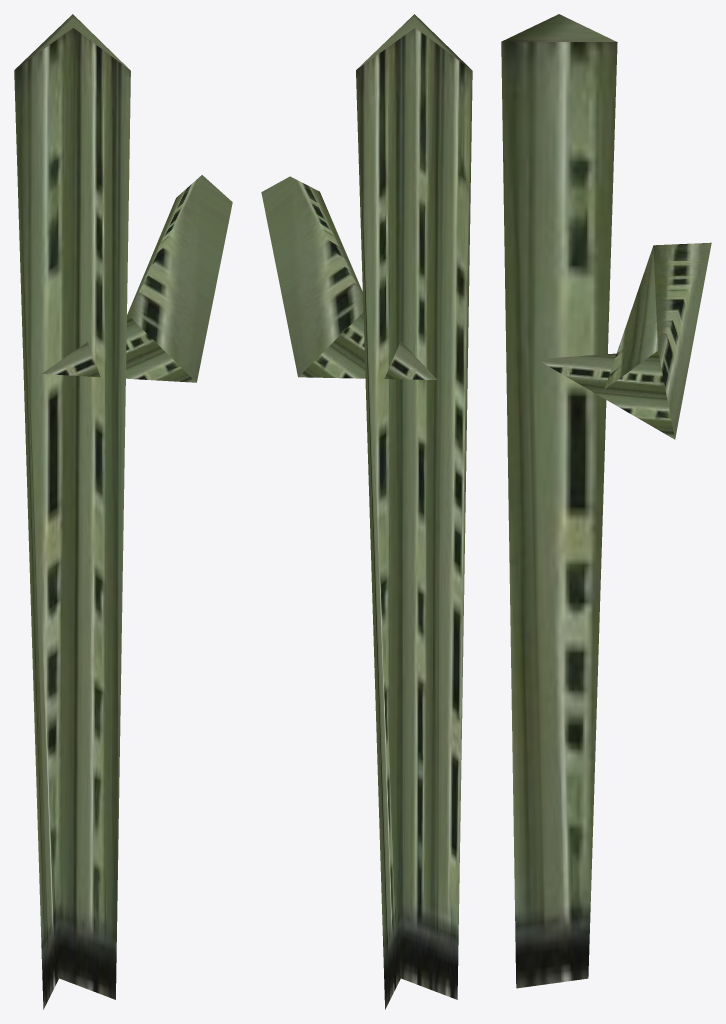
File: cactus1_hdtex.glb
3 renders of one model, left to right at view 1: azimuth 30°, elevation 25°; view 2: azimuth 150°, elevation 25°; view 3: azimuth 330°, elevation 25°, orthographic.
Visible parts, largest first — view 1: Cone01; view 2: Cone01; view 3: Cone01.
Part boxes in pixels (left/top/right/bottom): Cone01: left=14, top=14, right=232, bottom=1009; Cone01: left=261, top=14, right=472, bottom=1009; Cone01: left=501, top=14, right=711, bottom=988.
Bounding box in the file's own units: 1.48 × 6.9 × 0.7765.
1 material, 1 textured.
